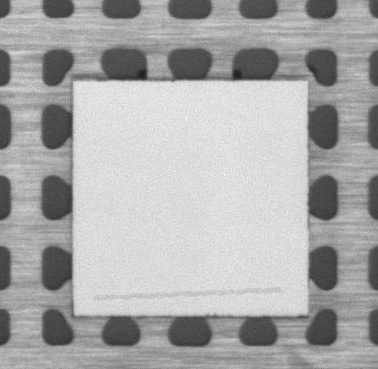DIE_CRACK: (97, 283, 289, 291)
